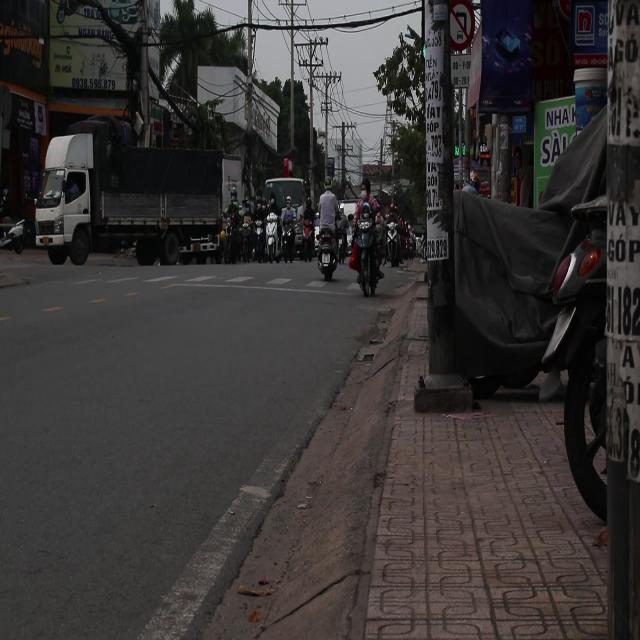motorbike: (350, 202, 387, 297), (314, 224, 341, 281), (264, 188, 284, 264), (247, 203, 268, 264), (296, 212, 320, 263), (0, 212, 26, 254), (278, 208, 294, 268)
truck: (32, 120, 235, 269)
